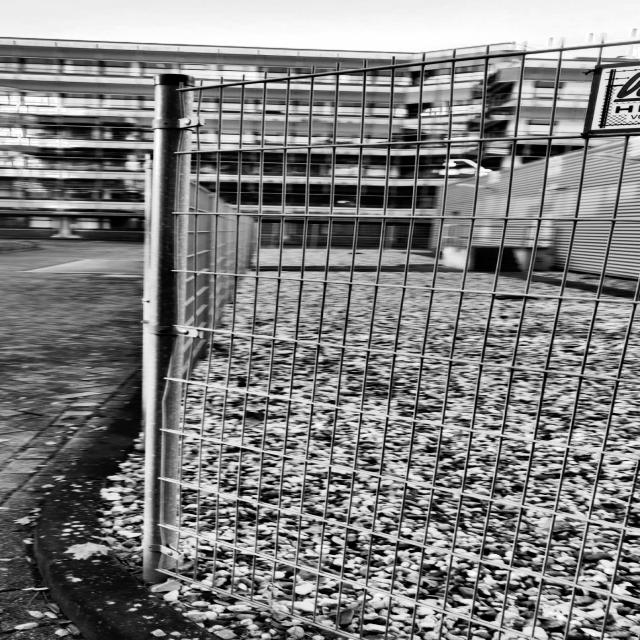anomaly-fence: (117, 45, 640, 627)
